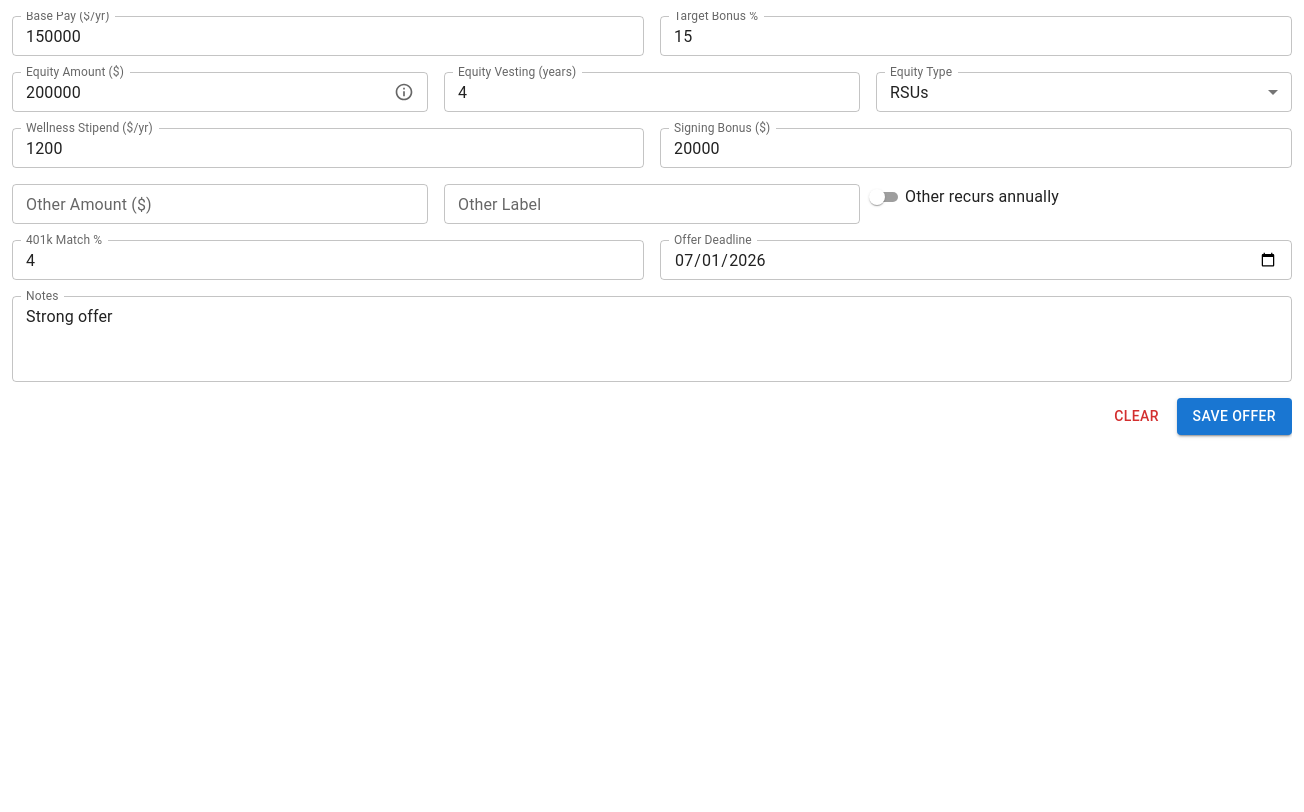
Scenario: offerTab › clear › clears the base pay field after Clear
Click the button "Clear": {"x": 1137, "y": 416} [1105,398,1169,434]
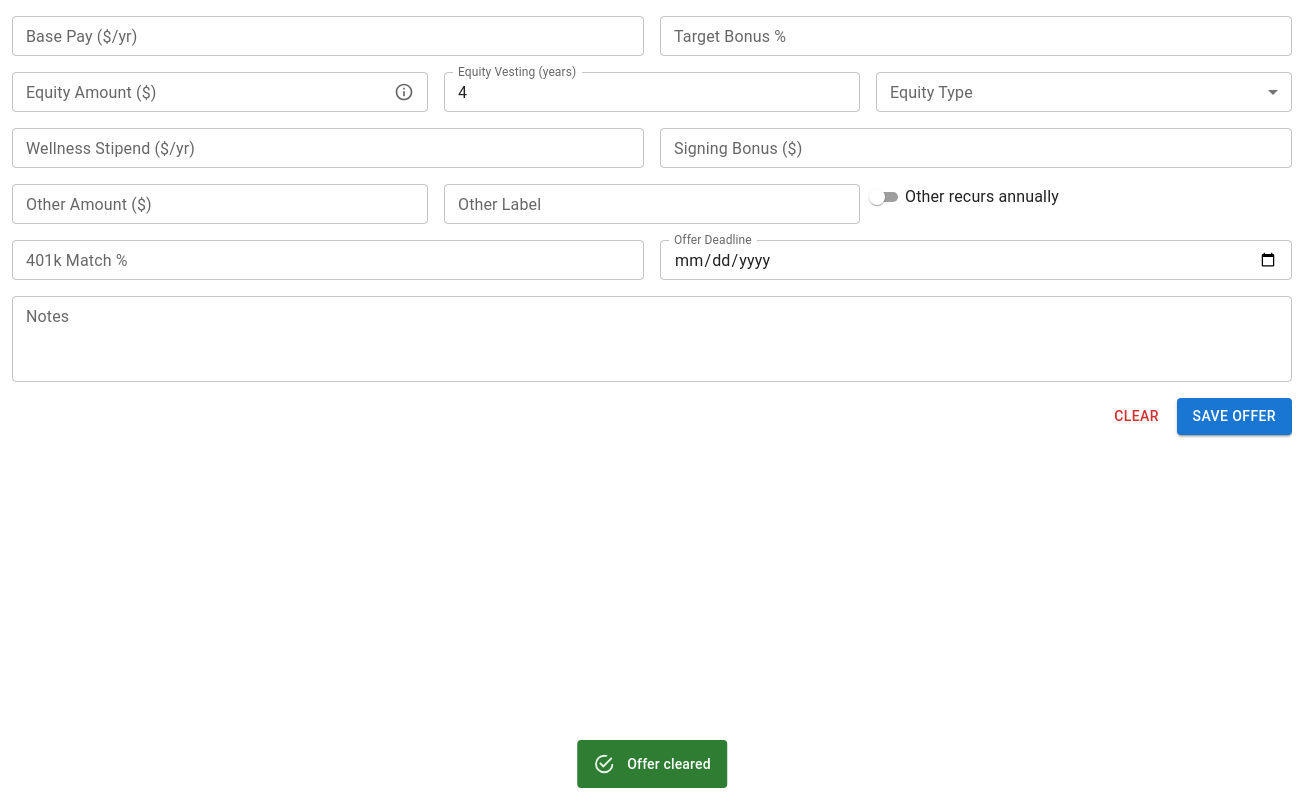
expect the number field labelled "Base Pay ($/yr)" is not empty: met, box [12,16,644,56]
